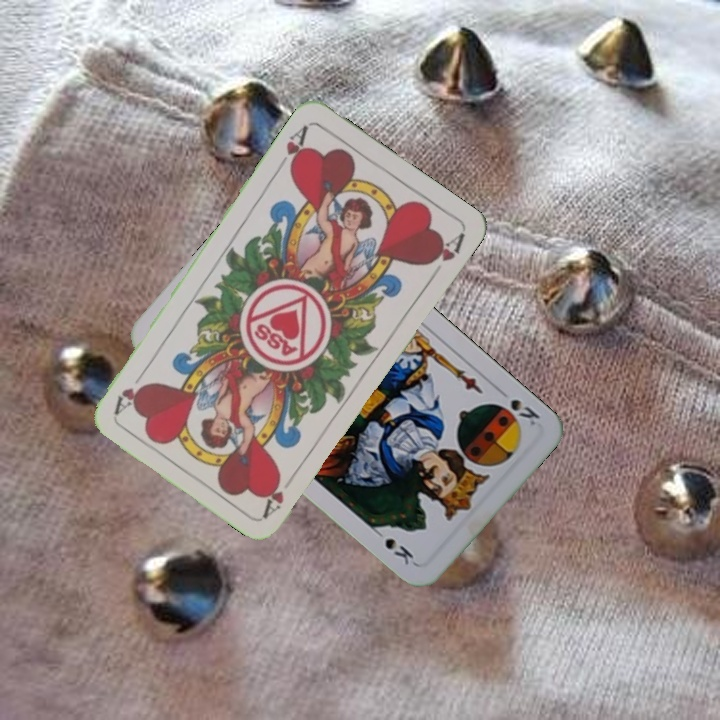HA: (259, 467, 300, 519), (273, 121, 312, 175)
SK: (506, 395, 543, 429)
